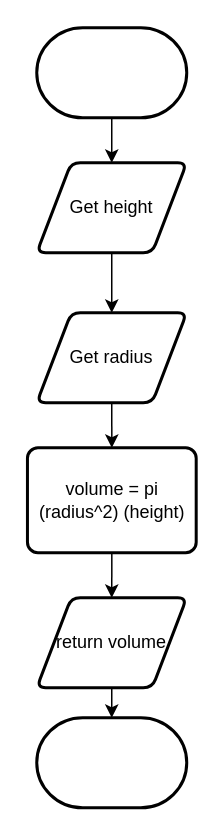
Image size: 224x834. Some labels were removed from this diagram. The shapes that lost their labels are listed below. From the top down, each one's centre as x and y in pixels, then its label:
At (x=111, y=72): "volume_cylinder".
At (x=111, y=762): "stop".
